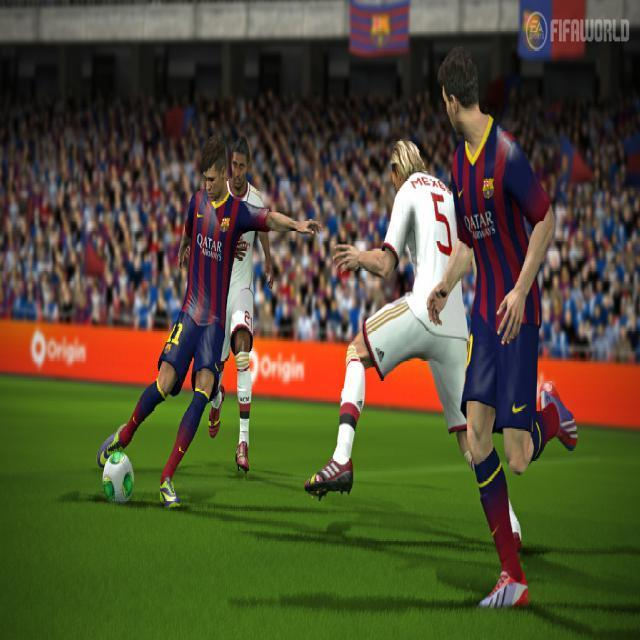football: (86, 444, 142, 504)
